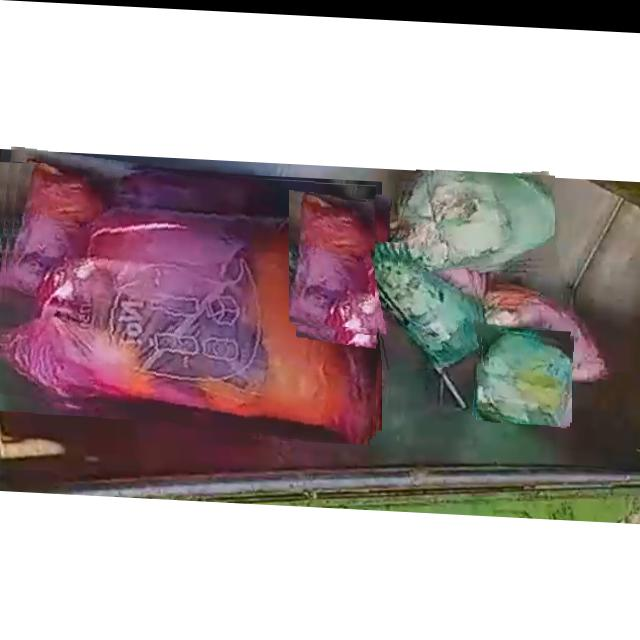general_trashbag: (401, 167, 555, 263), (376, 237, 481, 361), (478, 326, 571, 420)
other_trashbag: (2, 169, 375, 441), (290, 189, 381, 322)
